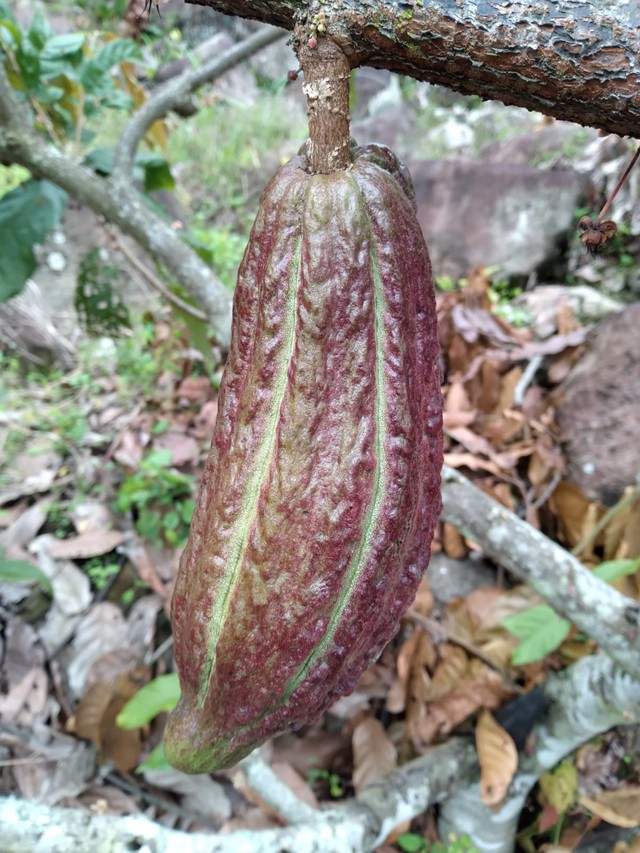Health: (158, 134, 454, 779)
